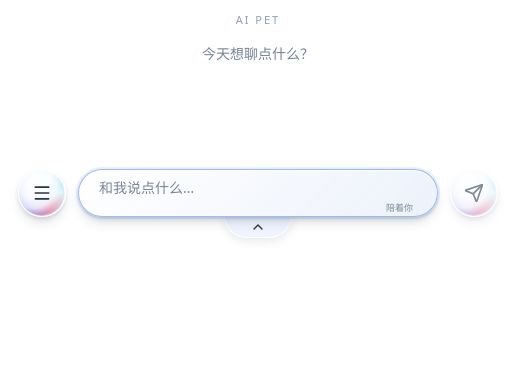
聊天面板本地模型状态 › 首次状态事件前，Dashboard 的 faulted 快照会禁发并给出故障原因
The image size is (515, 374).
In the text box labelled "和我说点什么": {"x": 258, "y": 194} [79,170,437,218], type "你好"
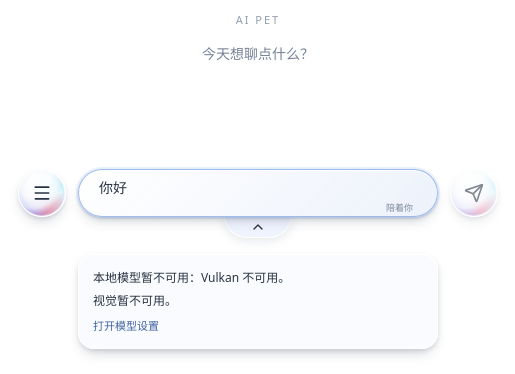
Expected: the button named "发送给 AI Pet" is disabled, [450,169,498,217]
Expected: the message shows "Vulkan 不可用", [201,269,278,286]
